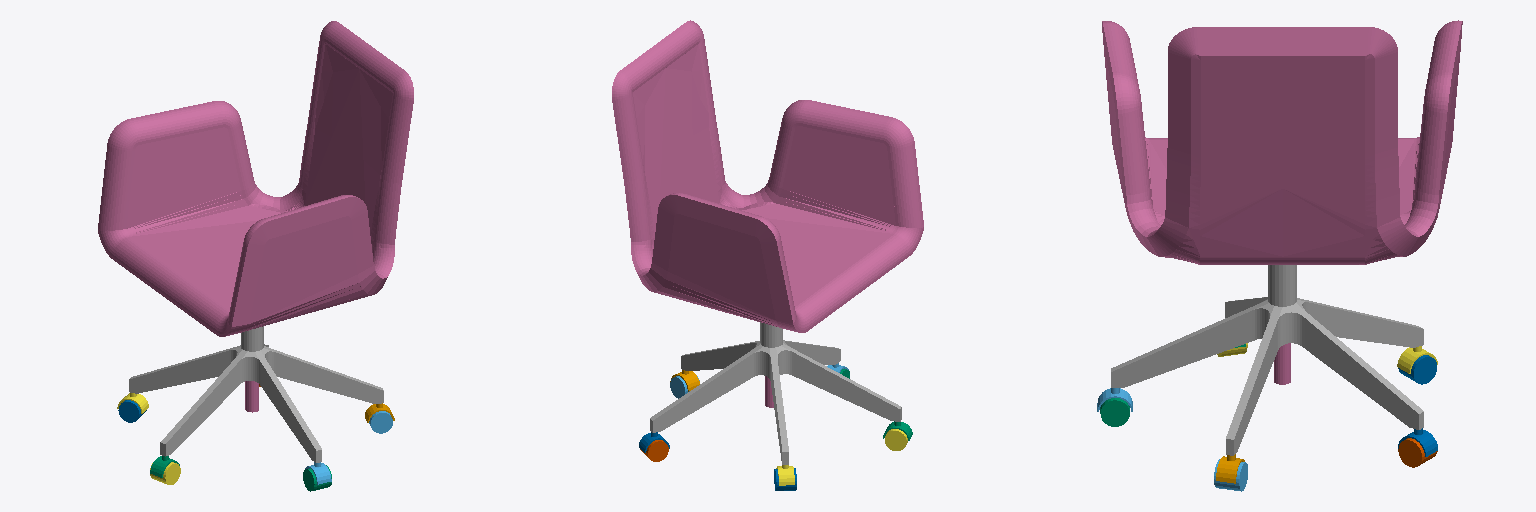
URDF robot description (partnet_f495c500ef468ea781a172d69c52a28a):
<?xml version="1.0" encoding="utf-8"?>
<robot name="partnet_f495c500ef468ea781a172d69c52a28a">
 <link name="base"/>
 <link name="link_0">
  <visual name="wheel-40">
   <origin xyz="-0.12832957744526657 0.7816055438278917 0.39811197899477385"/>
   <geometry>
    <mesh filename="textured_objs/original-15.obj"/>
   </geometry>
  </visual>
  <collision>
   <geometry>
    <mesh filename="cvx_objs/link_0.obj"/>
   </geometry>
  </collision>
 </link>
 <joint name="joint_0" type="continuous">
  <origin xyz="-0.04118042255473342 -0.7816055438278917 -0.01327347899477388"/>
  <axis xyz="-0.951783508880386 -1.657500425206981e-05 -0.3067705200122883"/>
  <child link="link_0"/>
  <parent link="link_7"/>
 </joint>
 <link name="link_1">
  <visual name="wheel-37">
   <origin xyz="-0.5224925646566796 0.7816035647286423 0.0012426333062589435"/>
   <geometry>
    <mesh filename="textured_objs/original-22.obj"/>
   </geometry>
  </visual>
  <collision>
   <geometry>
    <mesh filename="cvx_objs/link_1.obj"/>
   </geometry>
  </collision>
 </link>
 <joint name="joint_1" type="continuous">
  <origin xyz="-0.00023690216624883131 -0.7816035647286423 -0.10017101064076192"/>
  <axis xyz="0.0023614325044821237 -1.1257555254829964e-05 0.99999721175101"/>
  <child link="link_1"/>
  <parent link="link_8"/>
 </joint>
 <link name="link_2">
  <visual name="wheel-34">
   <origin xyz="-0.1894781942922035 0.7816050321740533 -0.5785592878484762"/>
   <geometry>
    <mesh filename="textured_objs/original-8.obj"/>
   </geometry>
  </visual>
  <collision>
   <geometry>
    <mesh filename="cvx_objs/link_2.obj"/>
   </geometry>
  </collision>
 </link>
 <joint name="joint_2" type="continuous">
  <origin xyz="0.017687854657200325 -0.7816050321740533 -0.005793068434230331"/>
  <axis xyz="0.9503269236740077 -1.5823453255619917e-05 -0.31125349458265555"/>
  <child link="link_2"/>
  <parent link="link_9"/>
 </joint>
 <link name="link_3">
  <visual name="wheel-31">
   <origin xyz="0.45060734416347115 0.7816030201702331 -0.32898047679497117"/>
   <geometry>
    <mesh filename="textured_objs/original-36.obj"/>
   </geometry>
  </visual>
  <collision>
   <geometry>
    <mesh filename="cvx_objs/link_3.obj"/>
   </geometry>
  </collision>
 </link>
 <joint name="joint_3" type="continuous">
  <origin xyz="-0.05228597516014444 -0.7816030201702331 -0.0716134439026681"/>
  <axis xyz="0.5896728511027864 -1.5898997096979275e-05 0.8076422032184382"/>
  <child link="link_3"/>
  <parent link="link_10"/>
 </joint>
 <link name="link_4">
  <visual name="wheel-28">
   <origin xyz="0.35667558099552843 0.7815976250087654 0.25795357296449645"/>
   <geometry>
    <mesh filename="textured_objs/original-29.obj"/>
   </geometry>
  </visual>
  <collision>
   <geometry>
    <mesh filename="cvx_objs/link_4.obj"/>
   </geometry>
  </collision>
 </link>
 <joint name="joint_4" type="continuous">
  <origin xyz="0.04305514364658697 -0.7815976250087654 -0.059554437388463694"/>
  <axis xyz="0.5858815073567433 9.606136535168237e-05 -0.8103967239010808"/>
  <child link="link_4"/>
  <parent link="link_11"/>
 </joint>
 <link name="link_5">
  <visual name="back_soft_surface-47">
   <origin xyz="-0.013195270357789387 0 -0.10012751209626579"/>
   <geometry>
    <mesh filename="textured_objs/new-3.obj"/>
   </geometry>
  </visual>
  <visual name="arm_sofa_style-44">
   <origin xyz="-0.013195270357789387 0 -0.10012751209626579"/>
   <geometry>
    <mesh filename="textured_objs/new-4.obj"/>
   </geometry>
  </visual>
  <visual name="arm_sofa_style-43">
   <origin xyz="-0.013195270357789387 0 -0.10012751209626579"/>
   <geometry>
    <mesh filename="textured_objs/new-5.obj"/>
   </geometry>
  </visual>
  <visual name="seat_soft_surface-42">
   <origin xyz="-0.013195270357789387 0 -0.10012751209626579"/>
   <geometry>
    <mesh filename="textured_objs/new-6.obj"/>
   </geometry>
  </visual>
  <visual name="central_support-8">
   <origin xyz="-0.013195270357789387 0 -0.10012751209626579"/>
   <geometry>
    <mesh filename="textured_objs/new-2.obj"/>
   </geometry>
  </visual>
  <visual name="seat_connector-11">
   <origin xyz="-0.013195270357789387 0 -0.10012751209626579"/>
   <geometry>
    <mesh filename="textured_objs/new-0.obj"/>
   </geometry>
  </visual>
  <collision>
   <geometry>
    <mesh filename="cvx_objs/link_5.obj"/>
   </geometry>
  </collision>
 </link>
 <joint name="joint_5" type="continuous">
  <origin xyz="0.0 0 0.0"/>
  <axis xyz="0 1 0"/>
  <child link="link_5"/>
  <parent link="link_5_helper"/>
 </joint>
 <link name="link_6">
  <visual name="central_support-9">
   <origin xyz="0 0 0"/>
   <geometry>
    <mesh filename="textured_objs/new-1.obj"/>
   </geometry>
  </visual>
  <visual name="leg-12">
   <origin xyz="0 0 0"/>
   <geometry>
    <mesh filename="textured_objs/original-24.obj"/>
   </geometry>
  </visual>
  <visual name="leg-13">
   <origin xyz="0 0 0"/>
   <geometry>
    <mesh filename="textured_objs/original-10.obj"/>
   </geometry>
  </visual>
  <visual name="leg-14">
   <origin xyz="0 0 0"/>
   <geometry>
    <mesh filename="textured_objs/original-38.obj"/>
   </geometry>
  </visual>
  <visual name="leg-15">
   <origin xyz="0 0 0"/>
   <geometry>
    <mesh filename="textured_objs/original-31.obj"/>
   </geometry>
  </visual>
  <visual name="leg-16">
   <origin xyz="0 0 0"/>
   <geometry>
    <mesh filename="textured_objs/original-17.obj"/>
   </geometry>
  </visual>
  <collision>
   <geometry>
    <mesh filename="cvx_objs/link_6.obj"/>
   </geometry>
  </collision>
 </link>
 <joint name="joint_6" type="fixed">
  <origin rpy="1.570796326794897 0 -1.570796326794897" xyz="0 0 0"/>
  <child link="link_6"/>
  <parent link="base"/>
 </joint>
 <link name="link_7">
  <visual name="caster_yoke-38">
   <origin xyz="-0.16951 0 0.3848385"/>
   <geometry>
    <mesh filename="textured_objs/original-14.obj"/>
   </geometry>
  </visual>
  <visual name="caster_stem-39">
   <origin xyz="-0.16951 0 0.3848385"/>
   <geometry>
    <mesh filename="textured_objs/original-16.obj"/>
   </geometry>
  </visual>
  <collision>
   <geometry>
    <mesh filename="cvx_objs/link_7.obj"/>
   </geometry>
  </collision>
 </link>
 <joint name="joint_7" type="continuous">
  <origin xyz="0.16951 0 -0.3848385"/>
  <axis xyz="0 1 0"/>
  <child link="link_7"/>
  <parent link="link_6"/>
 </joint>
 <link name="link_8">
  <visual name="caster_yoke-35">
   <origin xyz="-0.5227294668229284 0 -0.09892837733450298"/>
   <geometry>
    <mesh filename="textured_objs/original-21.obj"/>
   </geometry>
  </visual>
  <visual name="caster_stem-36">
   <origin xyz="-0.5227294668229284 0 -0.09892837733450298"/>
   <geometry>
    <mesh filename="textured_objs/original-23.obj"/>
   </geometry>
  </visual>
  <collision>
   <geometry>
    <mesh filename="cvx_objs/link_8.obj"/>
   </geometry>
  </collision>
 </link>
 <joint name="joint_8" type="continuous">
  <origin xyz="0.5227294668229284 0 0.09892837733450298"/>
  <axis xyz="0 1 0"/>
  <child link="link_8"/>
  <parent link="link_6"/>
 </joint>
 <link name="link_9">
  <visual name="caster_yoke-32">
   <origin xyz="-0.17179033963500318 0 -0.5843523562827065"/>
   <geometry>
    <mesh filename="textured_objs/original-7.obj"/>
   </geometry>
  </visual>
  <visual name="caster_stem-33">
   <origin xyz="-0.17179033963500318 0 -0.5843523562827065"/>
   <geometry>
    <mesh filename="textured_objs/original-9.obj"/>
   </geometry>
  </visual>
  <collision>
   <geometry>
    <mesh filename="cvx_objs/link_9.obj"/>
   </geometry>
  </collision>
 </link>
 <joint name="joint_9" type="continuous">
  <origin xyz="0.17179033963500318 0 0.5843523562827065"/>
  <axis xyz="0 1 0"/>
  <child link="link_9"/>
  <parent link="link_6"/>
 </joint>
 <link name="link_10">
  <visual name="caster_yoke-29">
   <origin xyz="0.3983213690033267 0 -0.40059392069763927"/>
   <geometry>
    <mesh filename="textured_objs/original-35.obj"/>
   </geometry>
  </visual>
  <visual name="caster_stem-30">
   <origin xyz="0.3983213690033267 0 -0.40059392069763927"/>
   <geometry>
    <mesh filename="textured_objs/original-37.obj"/>
   </geometry>
  </visual>
  <collision>
   <geometry>
    <mesh filename="cvx_objs/link_10.obj"/>
   </geometry>
  </collision>
 </link>
 <joint name="joint_10" type="continuous">
  <origin xyz="-0.3983213690033267 0 0.40059392069763927"/>
  <axis xyz="0 1 0"/>
  <child link="link_10"/>
  <parent link="link_6"/>
 </joint>
 <link name="link_11">
  <visual name="caster_yoke-26">
   <origin xyz="0.3997307246421154 0 0.19839913557603275"/>
   <geometry>
    <mesh filename="textured_objs/original-28.obj"/>
   </geometry>
  </visual>
  <visual name="caster_stem-27">
   <origin xyz="0.3997307246421154 0 0.19839913557603275"/>
   <geometry>
    <mesh filename="textured_objs/original-30.obj"/>
   </geometry>
  </visual>
  <collision>
   <geometry>
    <mesh filename="cvx_objs/link_11.obj"/>
   </geometry>
  </collision>
 </link>
 <joint name="joint_11" type="continuous">
  <origin xyz="-0.3997307246421154 0 -0.19839913557603275"/>
  <axis xyz="0 1 0"/>
  <child link="link_11"/>
  <parent link="link_6"/>
 </joint>
 <link name="link_5_helper"/>
 <joint name="joint_12" type="prismatic">
  <origin xyz="0.013195270357789387 0 0.10012751209626579"/>
  <axis xyz="0 -1 0"/>
  <child link="link_5_helper"/>
  <parent link="link_6"/>
  <limit lower="0" upper="0.1"/>
 </joint>
</robot>

--- Facts derived from the render (not from the file) ---
Views: 3 orthographic renders of the robot side by side, from view 1: azimuth 30°, elevation 25°; view 2: azimuth 150°, elevation 25°; view 3: azimuth 270°, elevation 25°.
Robot: partnet_f495c500ef468ea781a172d69c52a28a — 14 links, 13 joints (11 continuous, 1 prismatic, 1 fixed); root link base; default pose: all joints at 0.
Visible links, largest first — view 1: link_5, link_6; view 2: link_5, link_6; view 3: link_5, link_6, link_1, link_3, link_4, link_7.
Boxes of the visible links, x1,y1,x2,y2 form: link_5: (98,21,413,412); link_6: (129,326,383,462); link_5: (612,20,923,407); link_6: (650,322,901,464); link_5: (1102,20,1462,384); link_6: (1111,265,1423,455); link_1: (1100,398,1129,426); link_3: (1398,355,1436,384); link_4: (1398,438,1437,467); link_7: (1216,454,1244,483).
Size in the robot's own frame: 1.11 by 1.11 by 1.58 metres.
27 mesh visuals loaded from 27 distinct referenced files (27 OBJ).
